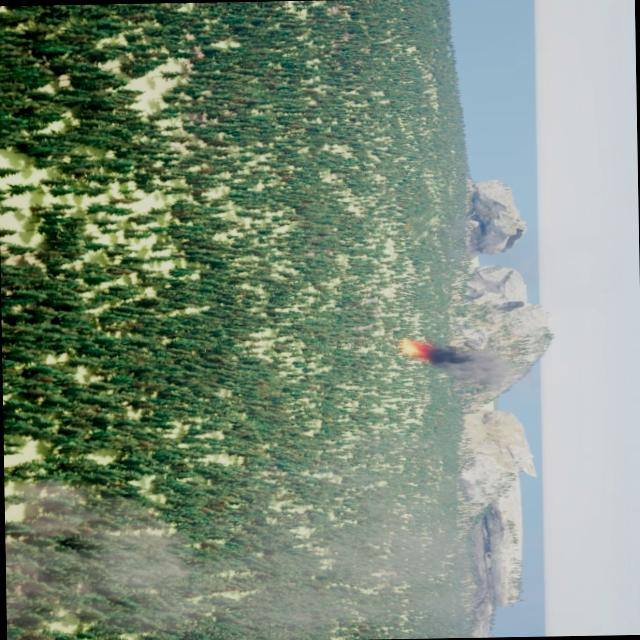fire: (400, 337, 429, 360)
smoke: (435, 343, 512, 390)
